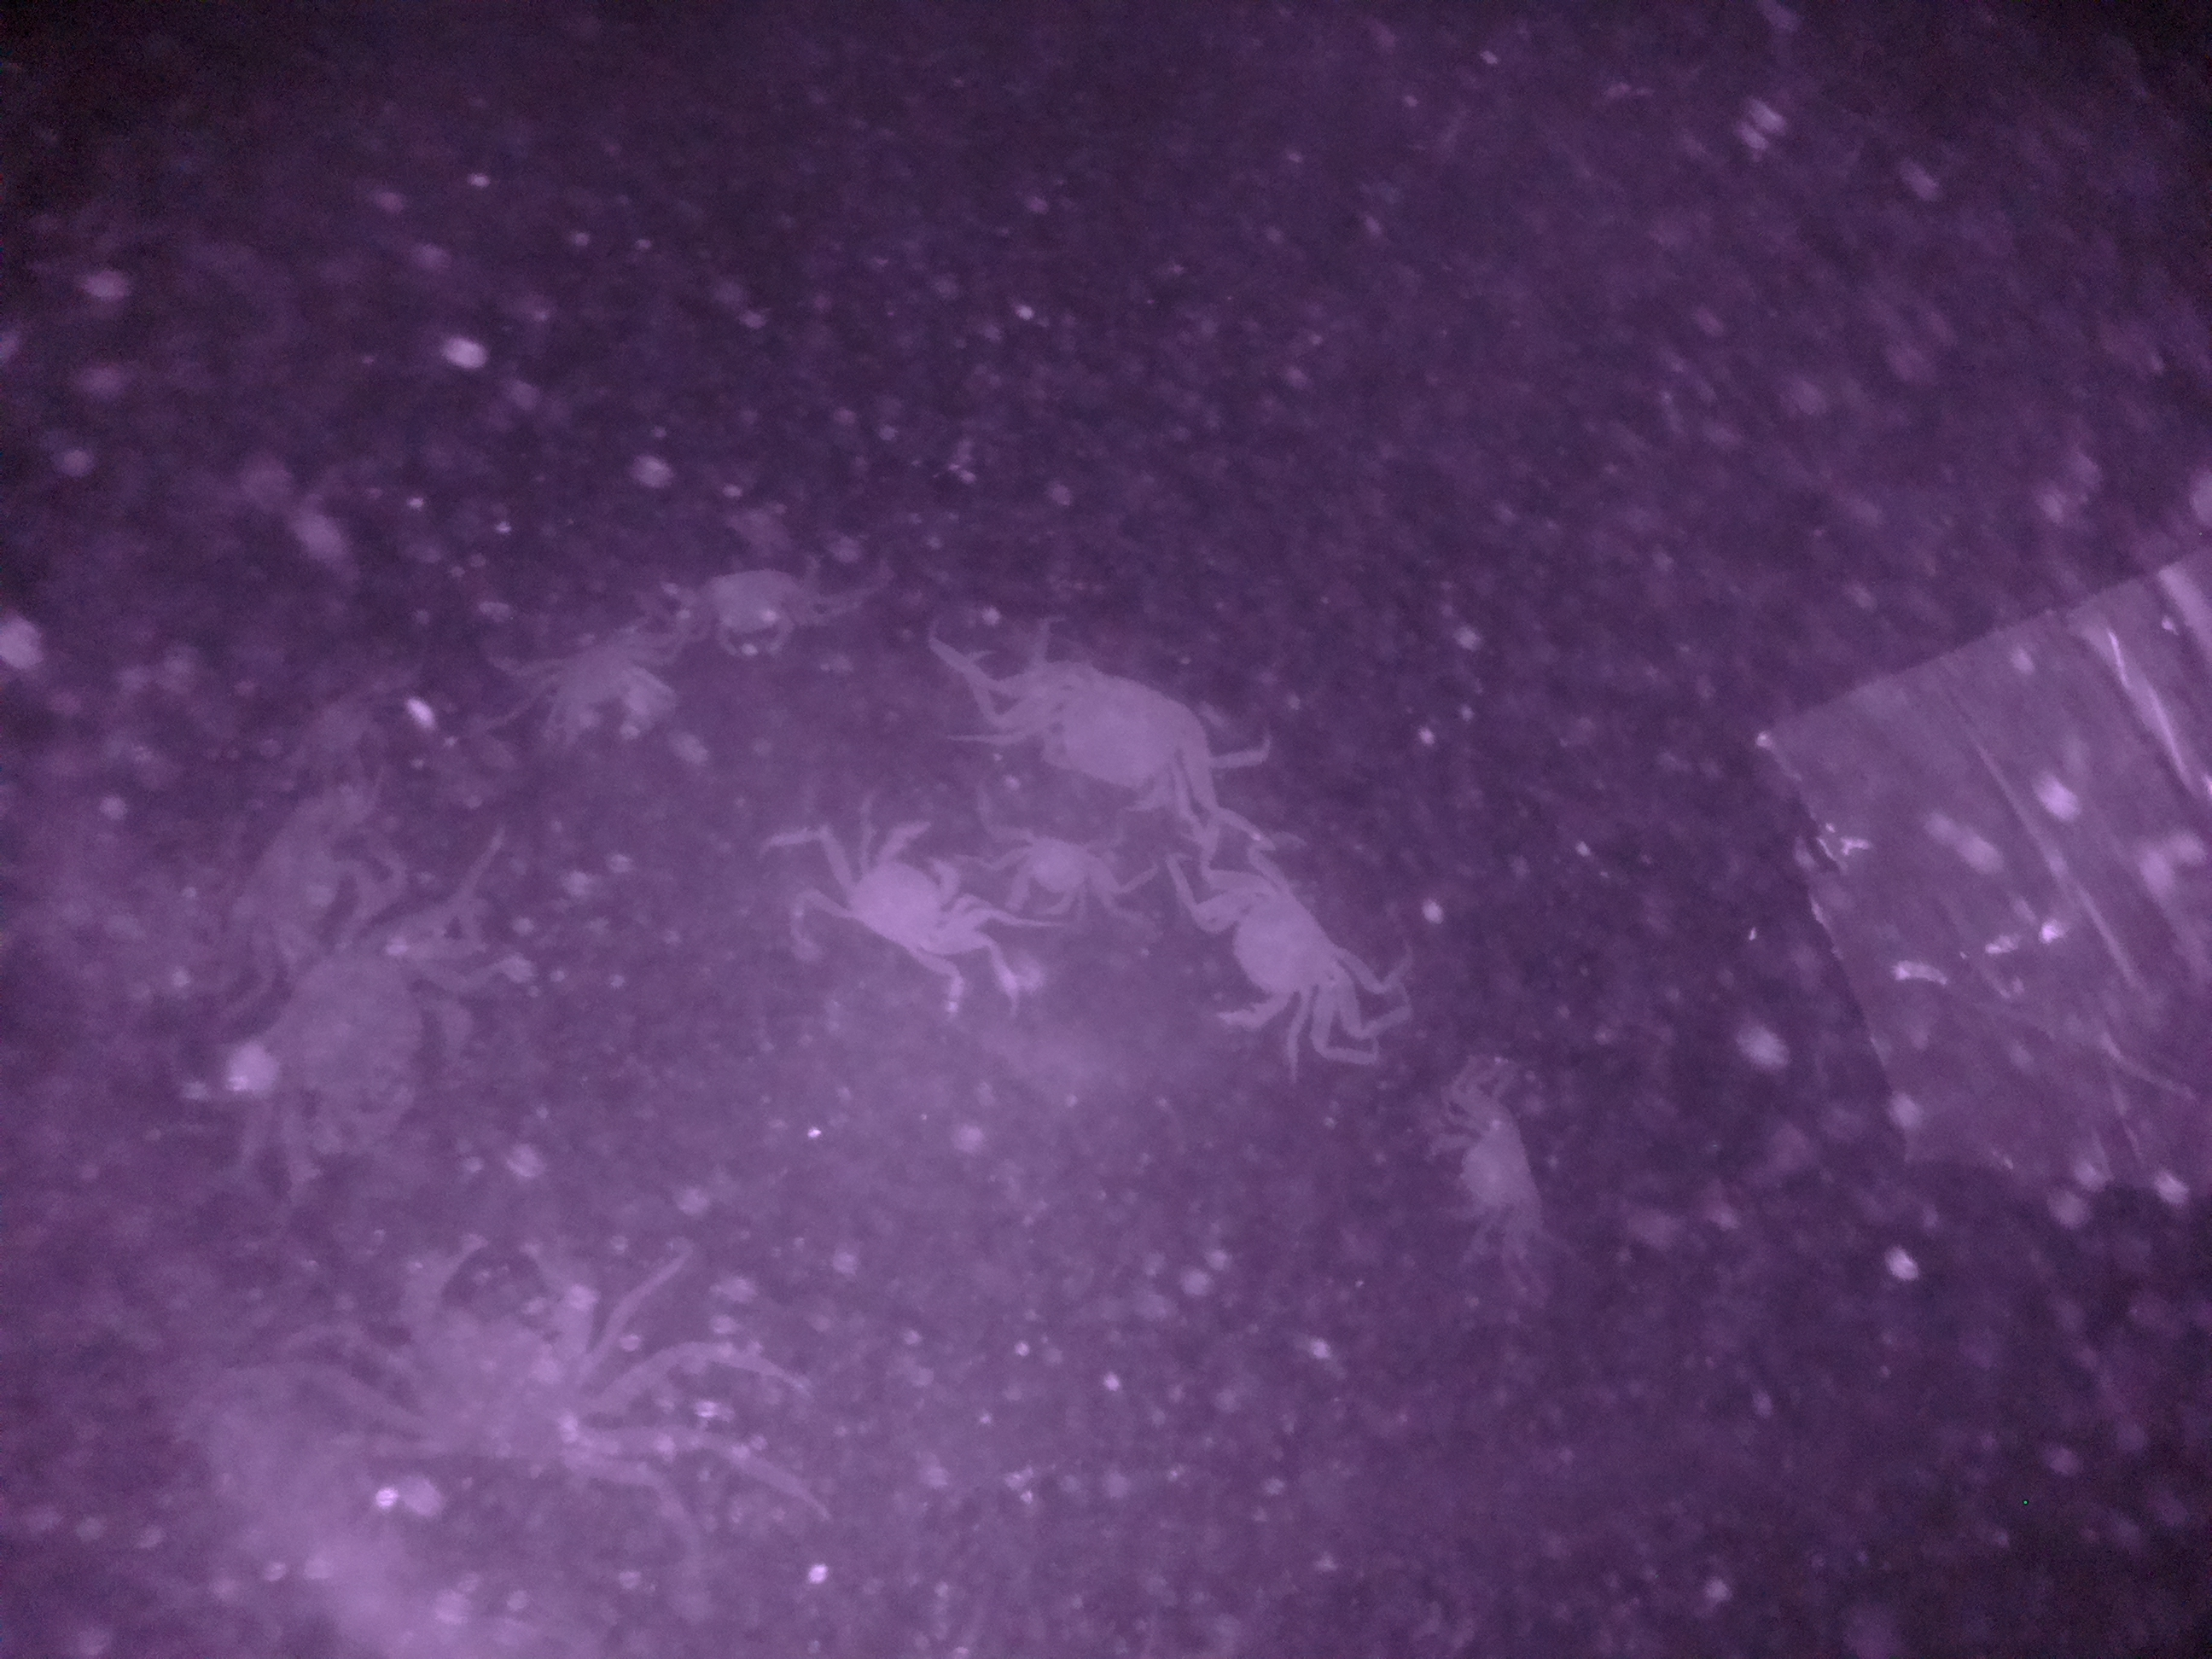Crab: (1170, 840, 1379, 1030), (789, 800, 975, 974), (991, 807, 1113, 936)
